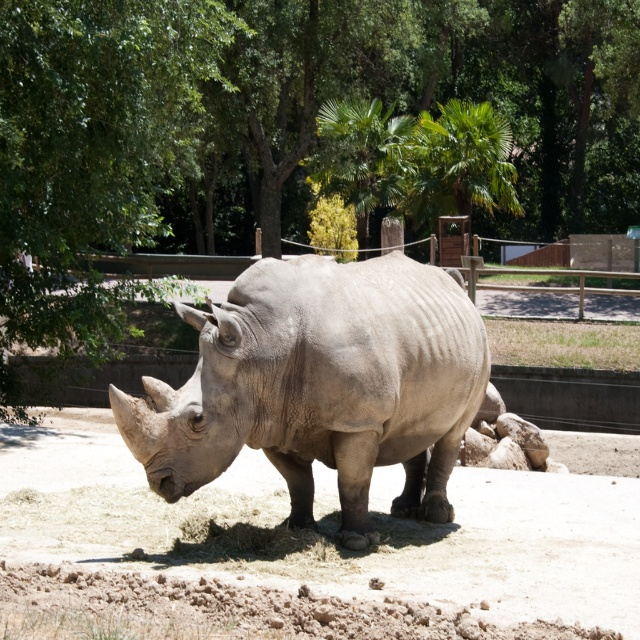Rhinoceros: (106, 243, 495, 560)
